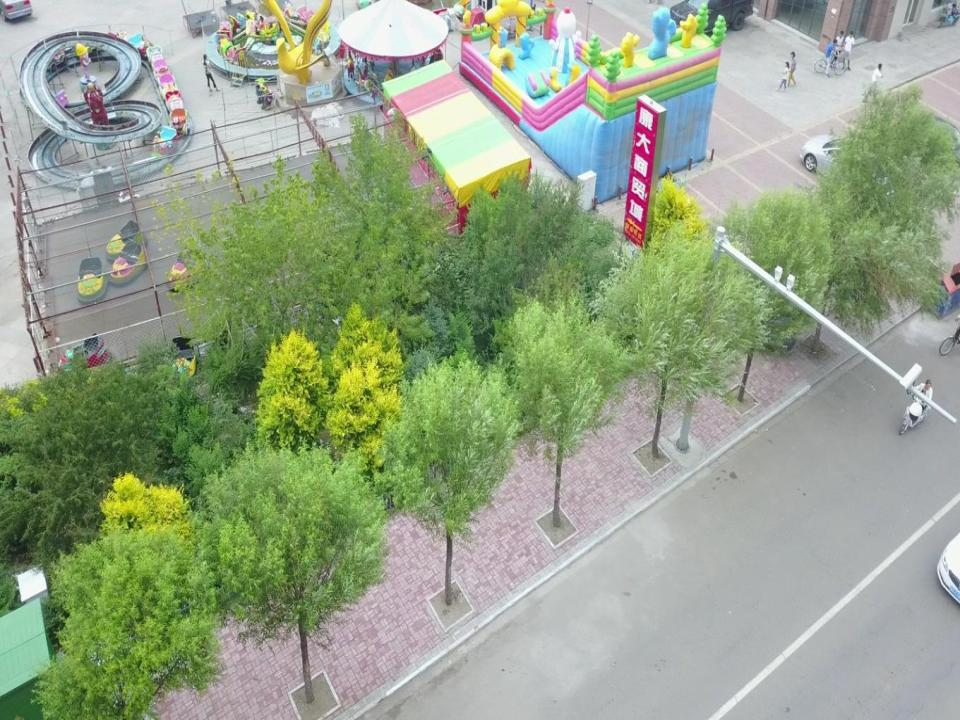car: (800, 134, 896, 194), (669, 1, 754, 39)
